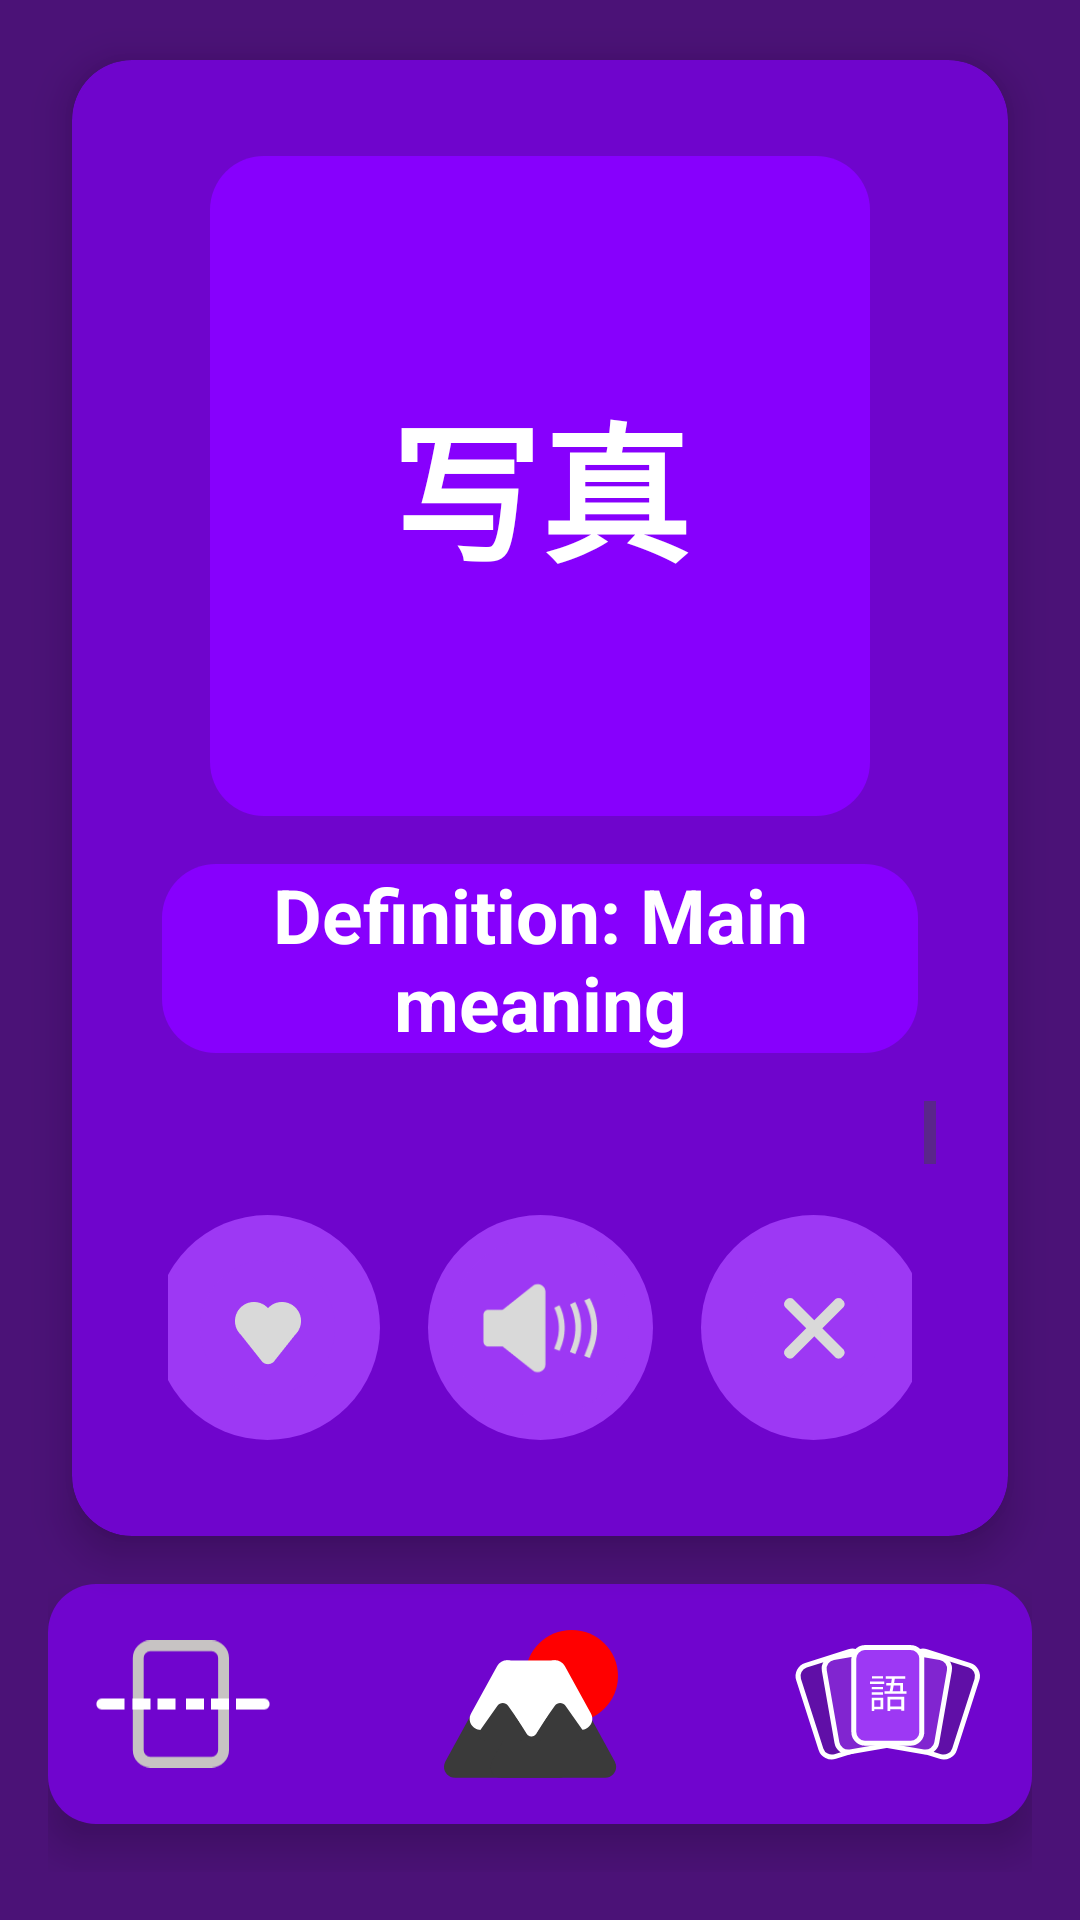

Icon click points for this 1080×1920 phone screenshot, format point (x, y):
Add to favorites: point (274, 1327)
Close: point (806, 1327)
decks: point (887, 1702)
Play audio: point (540, 1327)
scan: point (183, 1704)
